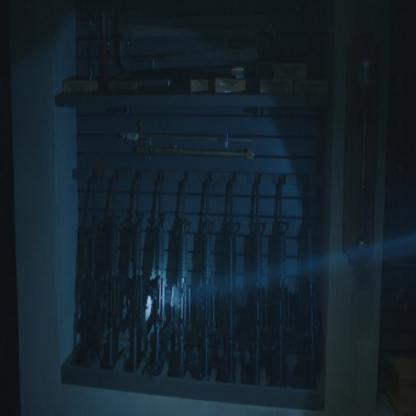Gun: (72, 155, 323, 394)
